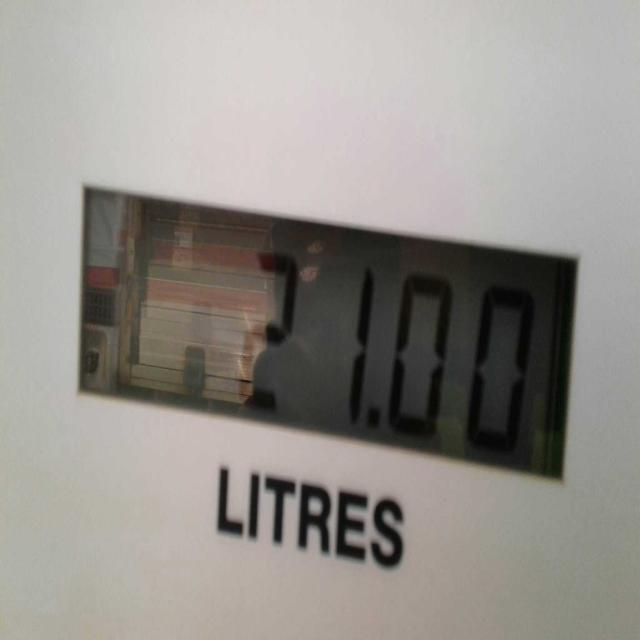.: (369, 409, 379, 431)
0: (386, 270, 449, 441), (470, 275, 529, 449)
1: (347, 264, 375, 431)
2: (232, 252, 294, 418)
